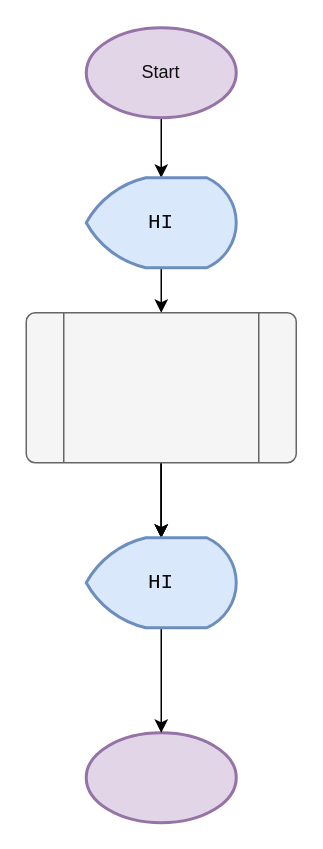
The diagram is 323 pixels wide and 849 high, and some of its shapes have lost their labels. Each missing label, with the centre of its shape:
End: [160,777]
message (): [160,387]
